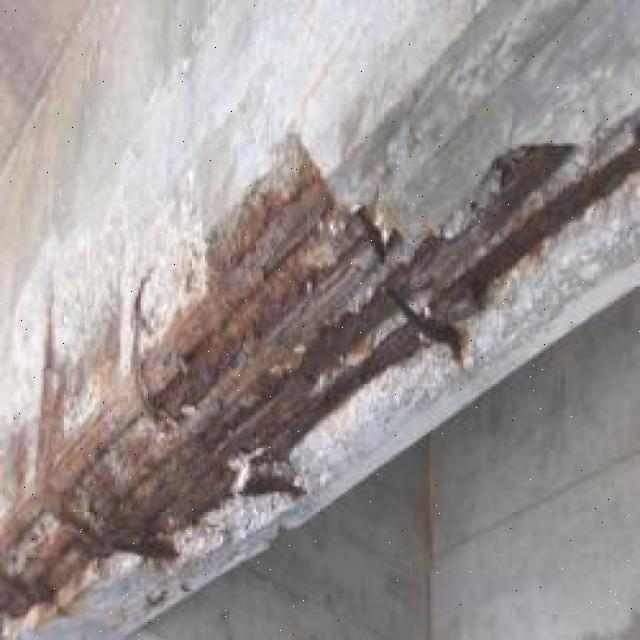corrosion: (67, 0, 241, 179), (259, 201, 389, 392), (444, 166, 593, 308), (81, 422, 221, 553), (524, 116, 640, 251), (211, 177, 334, 284), (64, 556, 198, 637), (207, 355, 317, 451), (184, 485, 297, 560), (154, 338, 245, 419), (230, 388, 269, 517), (494, 141, 574, 186), (136, 347, 186, 418), (297, 54, 340, 119), (288, 173, 335, 227), (0, 572, 43, 623), (465, 257, 507, 309), (56, 350, 89, 414), (262, 342, 307, 384), (8, 433, 33, 508), (376, 568, 418, 609), (440, 208, 474, 242), (41, 365, 66, 406), (491, 157, 518, 191), (382, 227, 405, 262), (181, 340, 206, 368), (524, 190, 547, 216), (292, 344, 307, 356)
crack: (429, 434, 634, 635), (3, 298, 111, 632), (1, 1, 107, 257), (240, 566, 355, 622), (411, 432, 438, 640)
